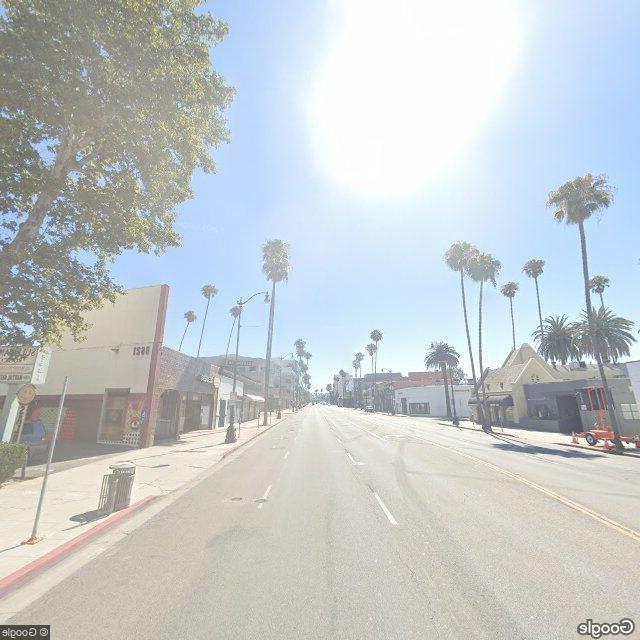crack: (397, 544, 450, 638)
